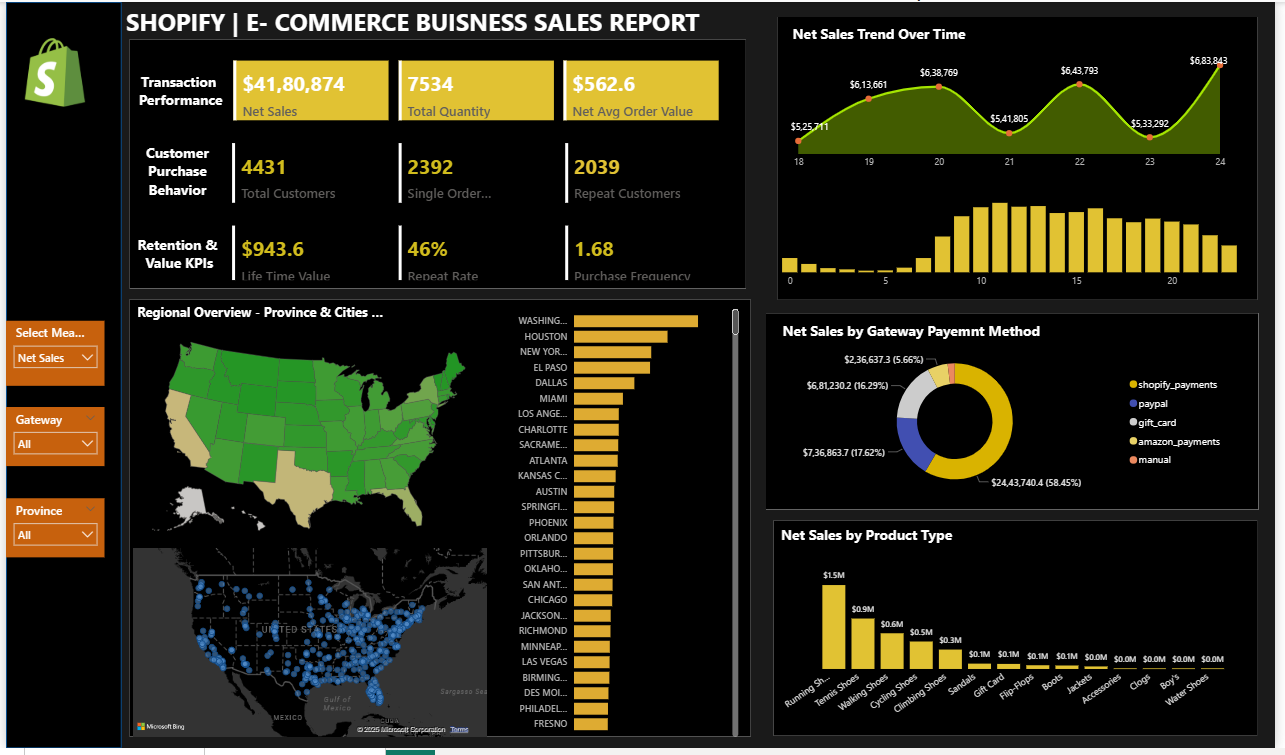

The page's visual inventory and layout, read from the dashboard file:
{"tool":"powerbi","page":{"name":" Page 1","canvas":[1700,1000],"ordinal":0},"visuals":[{"type":"shape","box":[0,0,154.8,1000],"z":0},{"type":"textbox","box":[155.8,0,830.8,72],"z":1000},{"type":"shape","box":[165.8,50.3,825.8,333.3],"z":2000},{"type":"cardVisual","fields":{"Data":["shopify_sales.Net Sales","shopify_sales.Total Quantity","shopify_sales.Net Avg Order Value"]},"box":[300,73.3,661.7,90],"z":3000},{"type":"card","fields":{"Values":["shopify_sales.Transaction Perf"]},"box":[165,58.3,136.7,118.3],"z":4000},{"type":"cardVisual","fields":{"Data":["shopify_sales.Total Customers","shopify_sales.Single Order Customers","shopify_sales.Repeat Customers"]},"box":[297.5,184.2,666.7,90],"z":5000},{"type":"card","fields":{"Values":["shopify_sales.Customer Purchase Behavior"]},"box":[163.3,171.7,136.7,103.3],"z":6000},{"type":"cardVisual","fields":{"Data":["shopify_sales.Life Time Value","shopify_sales.Repeat Rate","shopify_sales.Purchase Frequency"]},"box":[297.5,295,666.7,83.3],"z":7000},{"type":"card","fields":{"Values":["shopify_sales.Retention & Value KPIs"]},"box":[163.3,295,136.7,83.3],"z":8000},{"type":"shape","box":[166.1,398.4,832.3,585.5],"z":9000},{"type":"shapeMap","fields":{"Category":["shopify_sales.Billing Address Province"],"Value":["shopify_sales.Net Sales"]},"box":[164.5,437.1,483.9,290.3],"z":10000},{"type":"slicer","fields":{"Values":["Select Measure.Select Measure"]},"box":[0,427.4,132.3,87.1],"z":11000},{"type":"map","fields":{"Category":["shopify_sales.Location"]},"box":[165,726.7,483.3,263.3],"z":12000},{"type":"clusteredBarChart","fields":{"Y":["shopify_sales.Net Sales"],"Category":["shopify_sales.CITY"]},"box":[668.3,398.7,318.3,591.3],"z":13000},{"type":"card","fields":{"Values":["shopify_sales.MAP Title"]},"box":[166.1,398.4,350,38.7],"z":14000},{"type":"shape","box":[1033.9,19.4,643.5,379],"z":15000},{"type":"areaChart","fields":{"Y":["shopify_sales.Net Sales"],"Category":["shopify_sales.Invoice Date.Variation.Date Hierarchy.Day"]},"box":[1046.8,59.7,595.2,172.6],"z":16000},{"type":"columnChart","fields":{"Y":["shopify_sales.Net Sales"],"Category":["shopify_sales.Hour"]},"box":[1035.5,230.6,619.4,161.3],"z":17000},{"type":"card","fields":{"Values":["shopify_sales.Trend Title"]},"box":[1028.3,30,283.3,28.3],"z":18000},{"type":"shape","box":[1017.7,417.7,659.7,262.9],"z":19000},{"type":"card","fields":{"Values":["shopify_sales.Gateway Title"]},"box":[1033.9,427.4,359.7,30.6],"z":20000},{"type":"donutChart","fields":{"Y":["shopify_sales.Net Sales"],"Category":["shopify_sales.Gateway"]},"box":[1033.9,458.1,608.1,209.7],"z":21000},{"type":"shape","box":[1028.3,695,648.3,288.3],"z":22000},{"type":"columnChart","fields":{"Y":["shopify_sales.Net Sales"],"Category":["shopify_sales.Product Type"]},"box":[1038.3,726.7,615,245],"z":23000},{"type":"card","fields":{"Values":["shopify_sales.Product Title"]},"box":[1018.3,696.7,270,38.3],"z":24000},{"type":"image","box":[10.1,43.6,110.6,102.2],"z":25000},{"type":"slicer","fields":{"Values":["shopify_sales.Gateway"]},"box":[0,543.5,132.3,79],"z":26000},{"type":"slicer","fields":{"Values":["shopify_sales.Billing Address Province"]},"box":[0,664.5,132.3,79],"z":27000}]}

Visuals, with their boxes in screenshot pixels (x1, y1, x2, y2), scaled from the page's 1700x1000 canvas onto the 1285x755 screenshot:
shape: box(0, 0, 117, 754)
textbox: box(118, 0, 746, 54)
shape: box(125, 38, 750, 290)
cardVisual - shopify_sales.Net Sales x shopify_sales.Total Quantity: box(227, 55, 727, 123)
card - shopify_sales.Transaction Perf: box(125, 44, 228, 133)
cardVisual - shopify_sales.Total Customers x shopify_sales.Single Order Customers: box(225, 139, 729, 207)
card - shopify_sales.Customer Purchase Behavior: box(123, 130, 227, 208)
cardVisual - shopify_sales.Life Time Value x shopify_sales.Repeat Rate: box(225, 223, 729, 286)
card - shopify_sales.Retention & Value KPIs: box(123, 223, 227, 286)
shape: box(126, 301, 755, 743)
shapeMap - shopify_sales.Billing Address Province x shopify_sales.Net Sales: box(124, 330, 490, 549)
slicer - Select Measure.Select Measure: box(0, 323, 100, 388)
map - shopify_sales.Location: box(125, 549, 490, 747)
clusteredBarChart - shopify_sales.Net Sales x shopify_sales.CITY: box(505, 301, 746, 747)
card - shopify_sales.MAP Title: box(126, 301, 390, 330)
shape: box(782, 15, 1268, 301)
areaChart - shopify_sales.Net Sales x shopify_sales.Invoice Date.Variation.Date Hierarchy.Day: box(791, 45, 1241, 175)
columnChart - shopify_sales.Net Sales x shopify_sales.Hour: box(783, 174, 1251, 296)
card - shopify_sales.Trend Title: box(777, 23, 991, 44)
shape: box(769, 315, 1268, 514)
card - shopify_sales.Gateway Title: box(782, 323, 1053, 346)
donutChart - shopify_sales.Net Sales x shopify_sales.Gateway: box(782, 346, 1241, 504)
shape: box(777, 525, 1267, 742)
columnChart - shopify_sales.Net Sales x shopify_sales.Product Type: box(785, 549, 1250, 734)
card - shopify_sales.Product Title: box(770, 526, 974, 555)
image: box(8, 33, 91, 110)
slicer - shopify_sales.Gateway: box(0, 410, 100, 470)
slicer - shopify_sales.Billing Address Province: box(0, 502, 100, 561)
